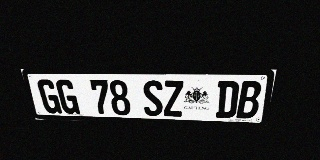7: (88, 80, 112, 115)
8: (108, 80, 131, 115)
B: (236, 81, 263, 119)
D: (215, 81, 240, 118)
G: (36, 79, 62, 114), (55, 79, 80, 114)
S: (142, 80, 163, 116)
Z: (163, 80, 183, 117)
